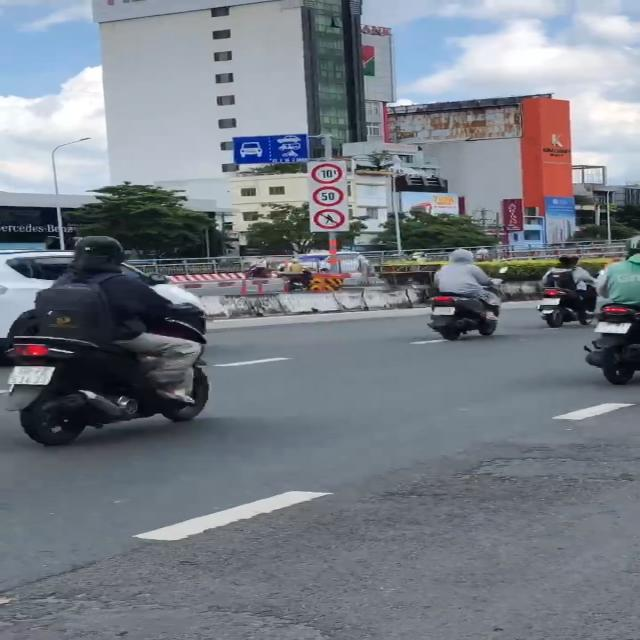Bien bao cam nguoi di bo: (313, 207, 347, 230)
Bien bao toc do toi da cho phep: (311, 185, 347, 207)
